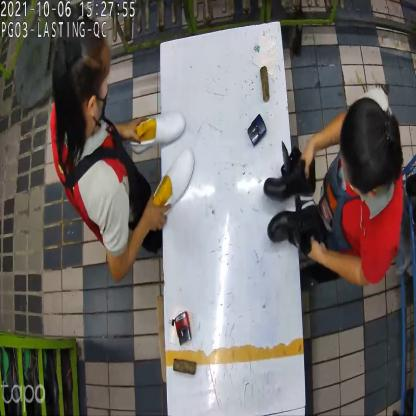shoes: (265, 138, 327, 259), (128, 113, 195, 214)
stamp: (173, 312, 195, 344), (248, 112, 266, 147)
